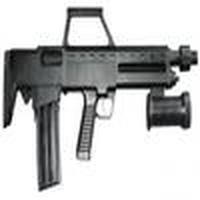gun: (5, 7, 197, 187)
